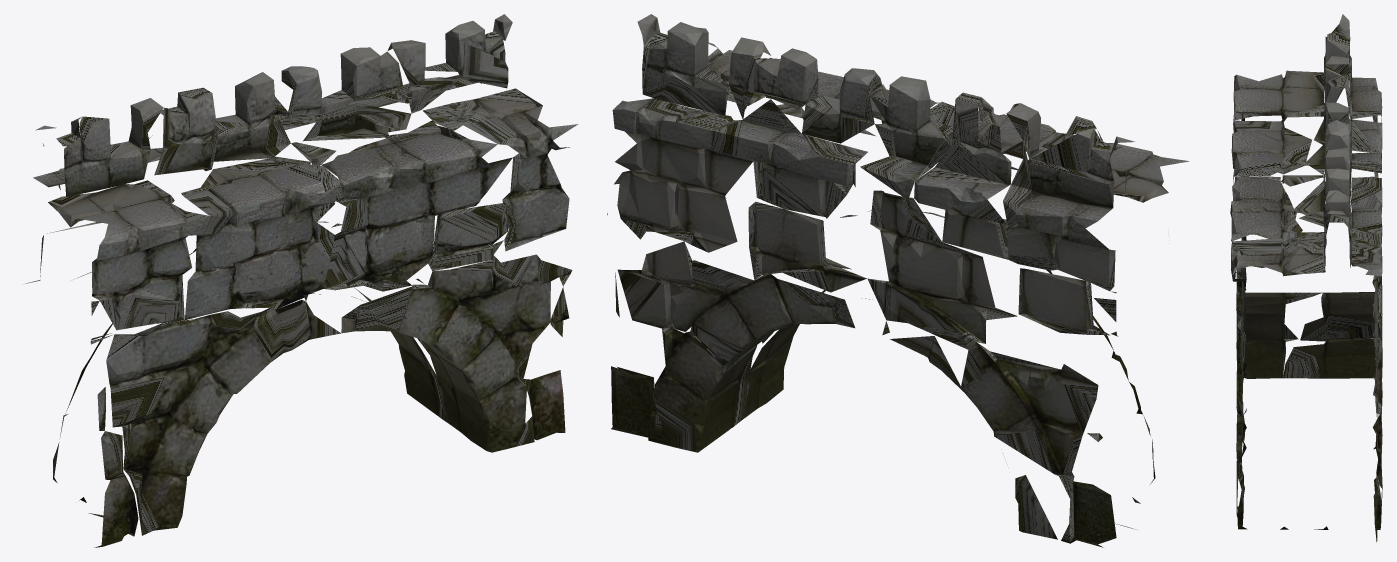
The model's file is bld_wall_watertunnel_a_LOD1.glb.
3 views of the same model, side by side, from view 1: azimuth 30°, elevation 25°; view 2: azimuth 150°, elevation 25°; view 3: azimuth 270°, elevation 25° (orthographic). The views are drawn at different scales.
Visible parts, largest first — view 1: geometry_0; view 2: geometry_0; view 3: geometry_0.
Part boxes in pixels (bbox=[...]): geometry_0: bbox=[25, 14, 578, 547]; geometry_0: bbox=[607, 14, 1189, 547]; geometry_0: bbox=[1230, 14, 1382, 542].
Size of the model in its own units: 8 by 6 by 2.5.
1 material, 1 textured.
